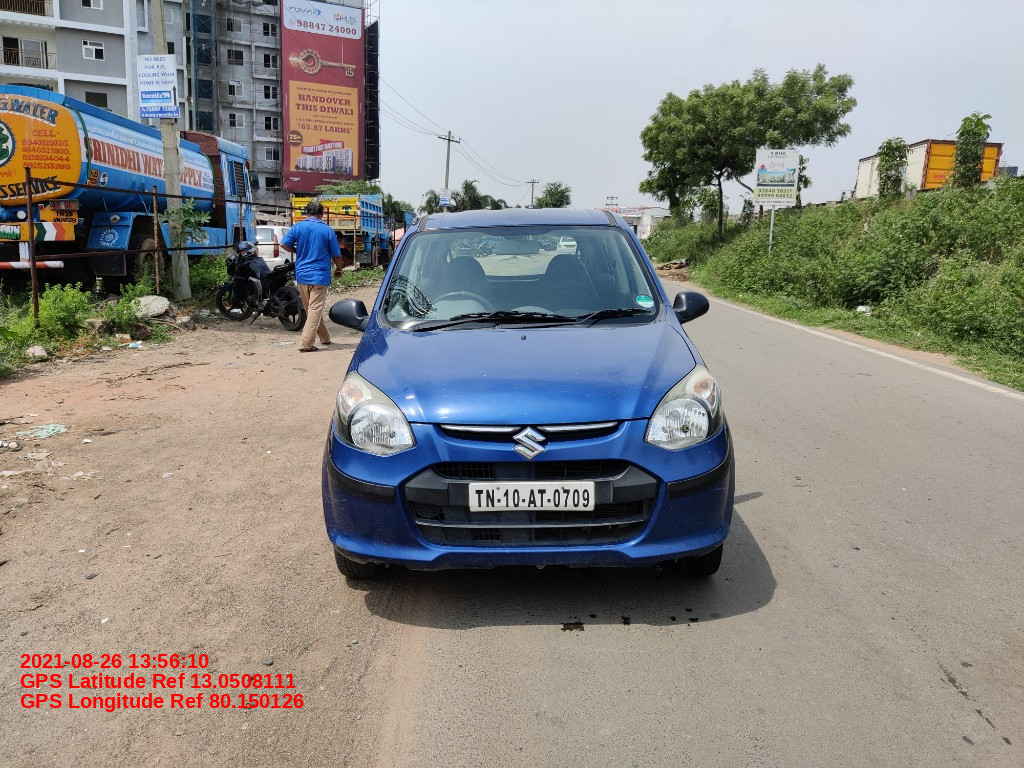Scratched: (323, 490, 353, 514), (712, 483, 734, 495)
